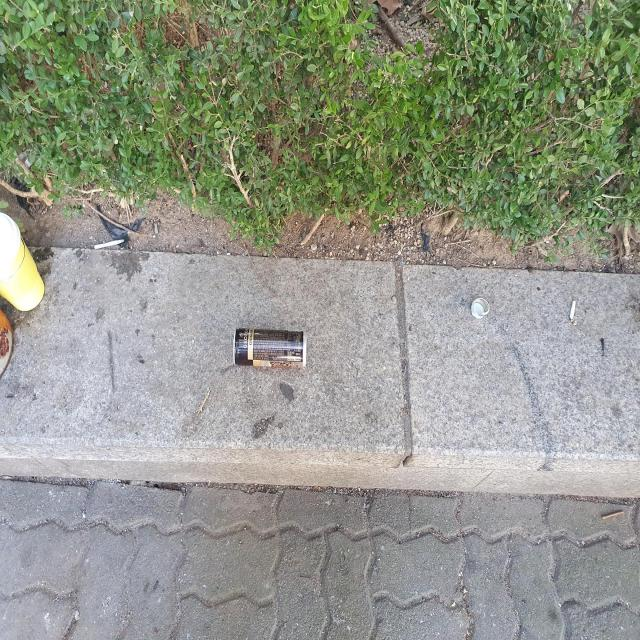can: (233, 328, 307, 368)
